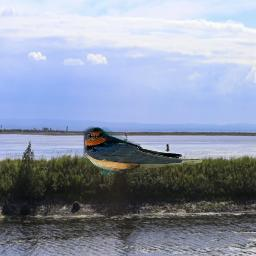Swallow: (81, 125, 203, 174)
